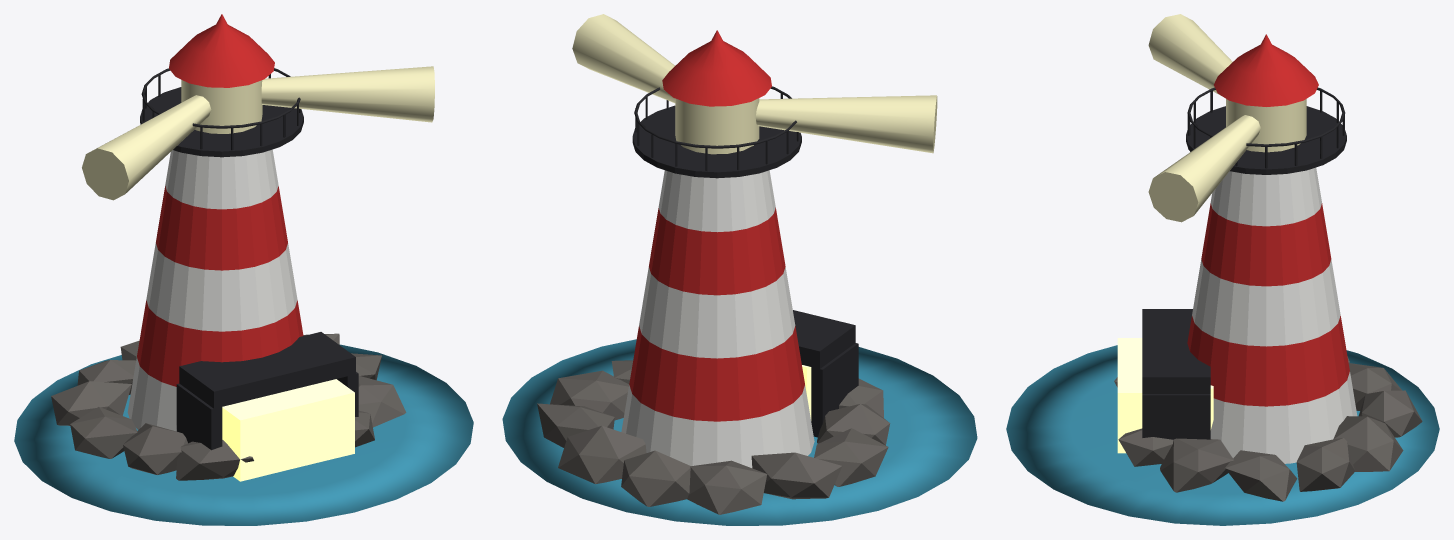
File: LighthouseFurnace_Roblox.fbx
3 views of the same model, side by side, from view 1: azimuth 30°, elevation 25°; view 2: azimuth 150°, elevation 25°; view 3: azimuth 270°, elevation 25° (orthographic). The views are drawn at different scales.
Parts seen in each view (by area): view 1: Shallows.001, TowerRed, TowerWhite, LighthouseBeam, LanternIron, ShoreRock, BurnZone; view 2: TowerRed, Shallows.001, TowerWhite, ShoreRock, LighthouseBeam, LanternIron; view 3: Shallows.001, TowerRed, TowerWhite, ShoreRock, LanternIron, LighthouseBeam, BurnZone.
Part boxes in pixels (x1=…): Shallows.001: x1=14, y1=344, x2=473, y2=525; TowerRed: x1=137, y1=14, x2=303, y2=386; TowerWhite: x1=127, y1=149, x2=297, y2=431; LighthouseBeam: x1=82, y1=66, x2=434, y2=200; LanternIron: x1=140, y1=68, x2=358, y2=450; ShoreRock: x1=51, y1=333, x2=406, y2=480; BurnZone: x1=222, y1=379, x2=354, y2=481; TowerRed: x1=629, y1=30, x2=804, y2=421; Shallows.001: x1=502, y1=339, x2=977, y2=525; TowerWhite: x1=621, y1=170, x2=814, y2=467; ShoreRock: x1=537, y1=360, x2=890, y2=514; LighthouseBeam: x1=572, y1=14, x2=937, y2=154; LanternIron: x1=632, y1=86, x2=858, y2=437; Shallows.001: x1=1006, y1=345, x2=1439, y2=525; TowerRed: x1=1187, y1=34, x2=1349, y2=406; TowerWhite: x1=1192, y1=167, x2=1357, y2=463; ShoreRock: x1=1114, y1=356, x2=1422, y2=501; LanternIron: x1=1142, y1=87, x2=1346, y2=439; LighthouseBeam: x1=1148, y1=14, x2=1306, y2=222; BurnZone: x1=1117, y1=338, x2=1142, y2=453.
Bounding box in the file's own units: 1480 × 1406 × 1400.
